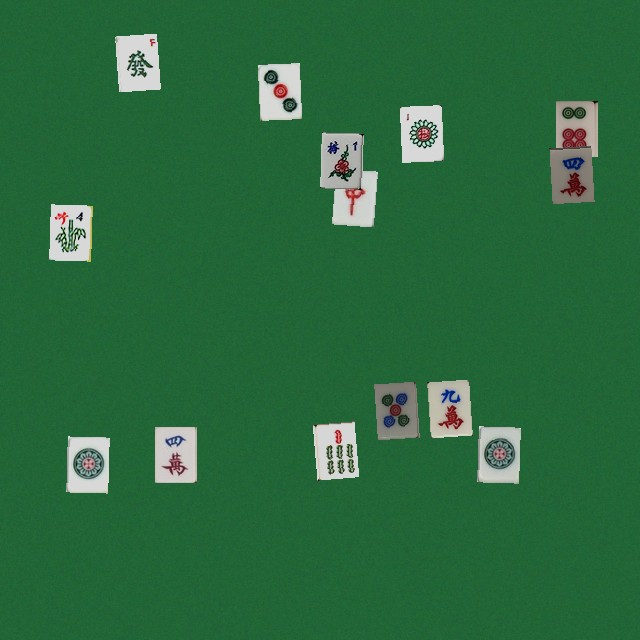tile: (257, 63, 299, 119), (331, 168, 373, 224), (312, 421, 354, 477), (374, 381, 416, 437), (49, 204, 91, 260), (555, 100, 597, 156), (427, 379, 469, 435), (477, 426, 519, 482), (320, 132, 362, 188), (154, 426, 196, 482), (66, 436, 108, 492), (115, 33, 157, 89), (399, 105, 441, 161), (549, 145, 591, 201)
